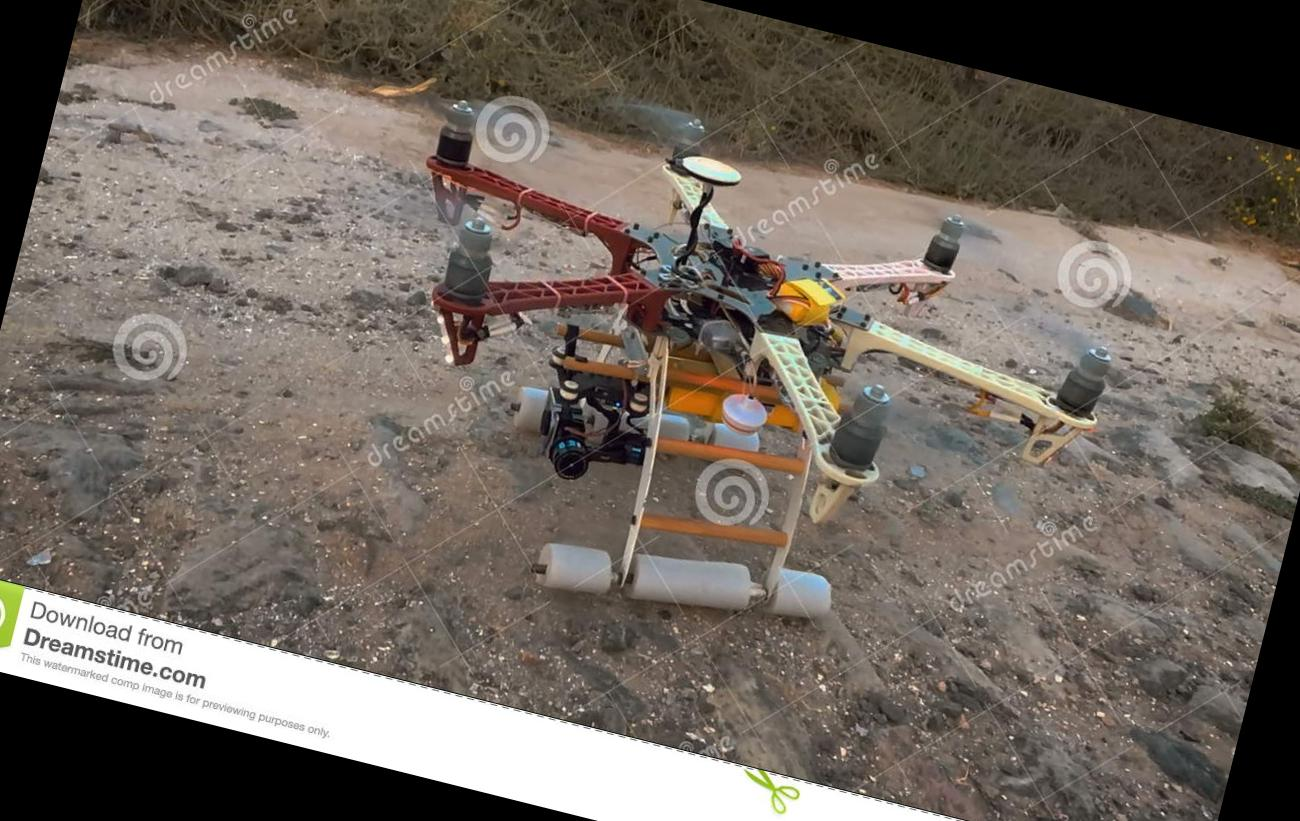drone: (340, 54, 1206, 558)
